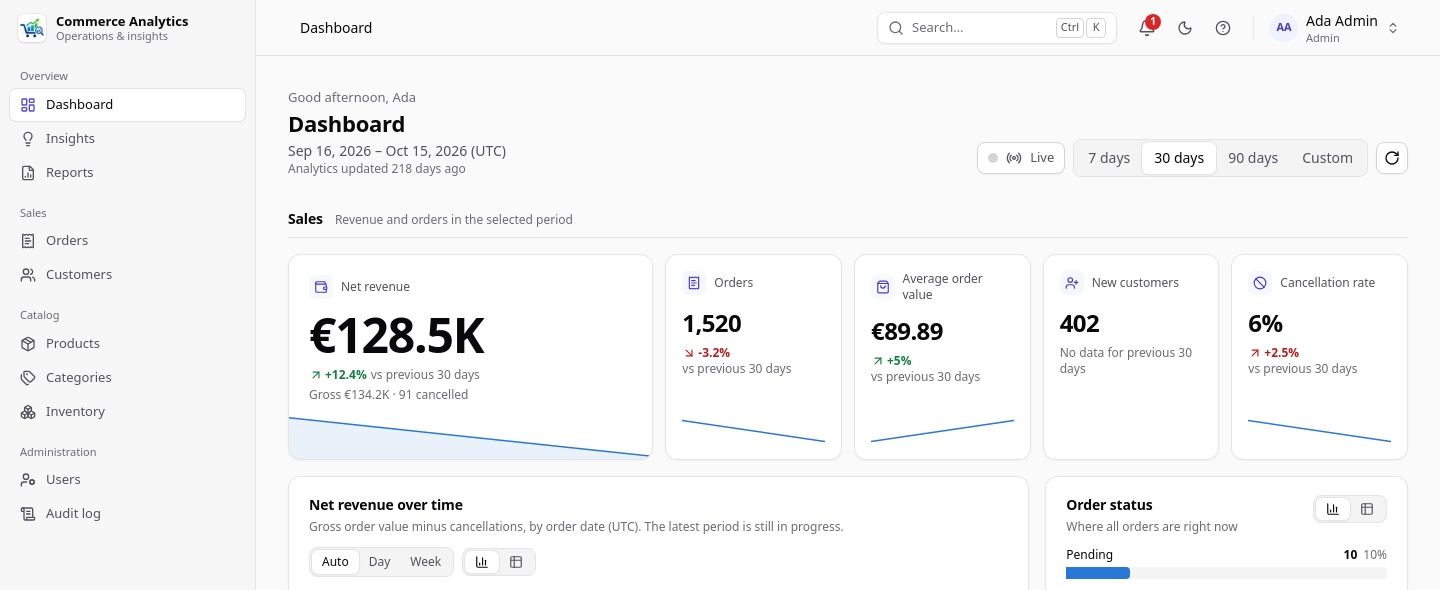
it: notification bell › closes with Escape and returns focus to the bell
Step 1. Click the button named "Notifications" → [1147, 28], box [1129, 10, 1165, 46]
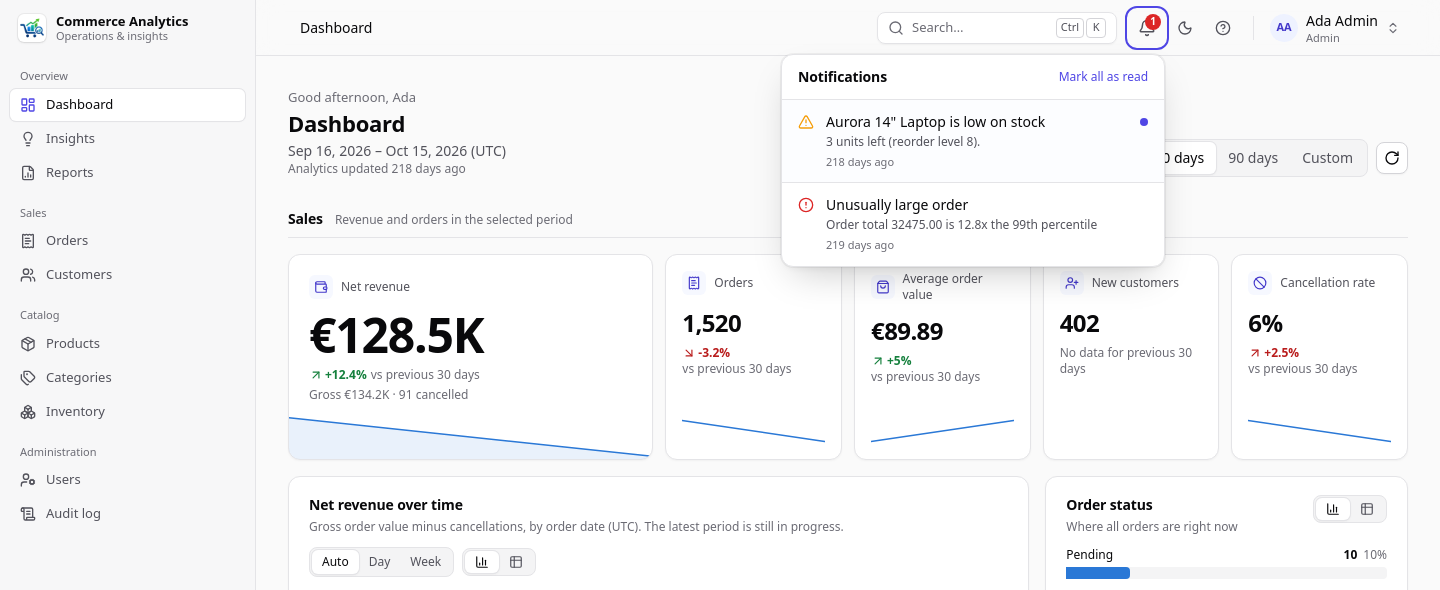
Step 2. Press Escape
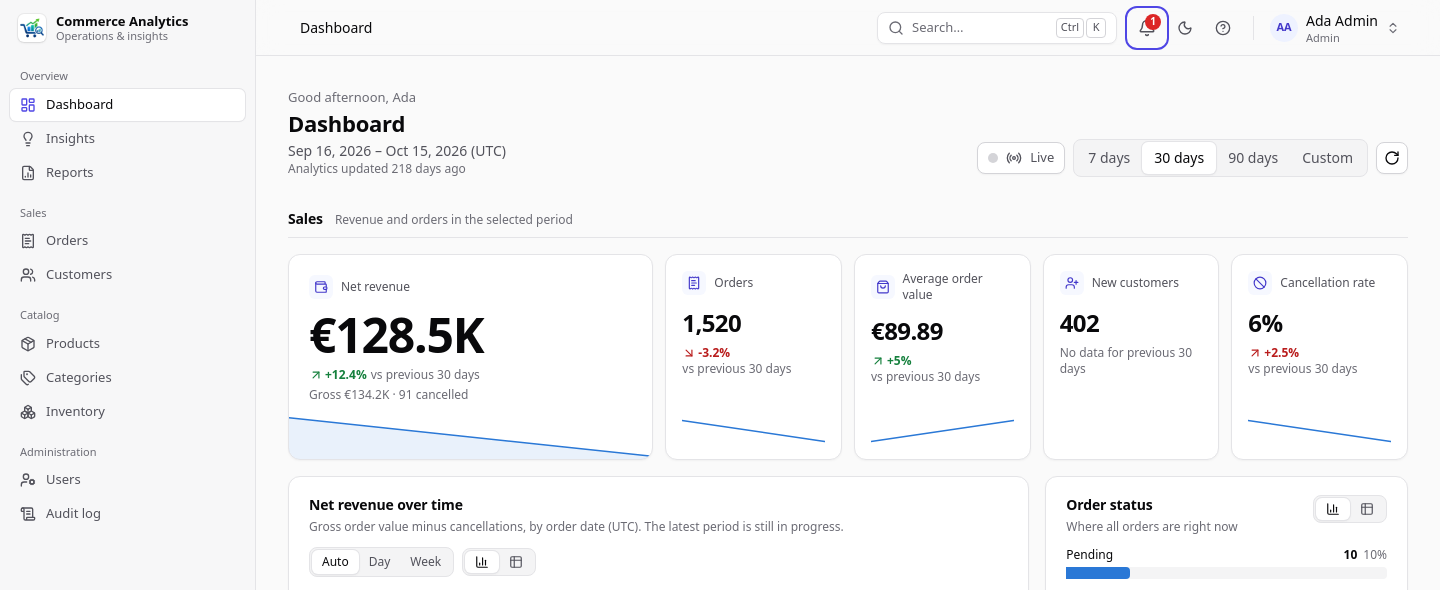
Expected: the heading "Notifications" is gone
